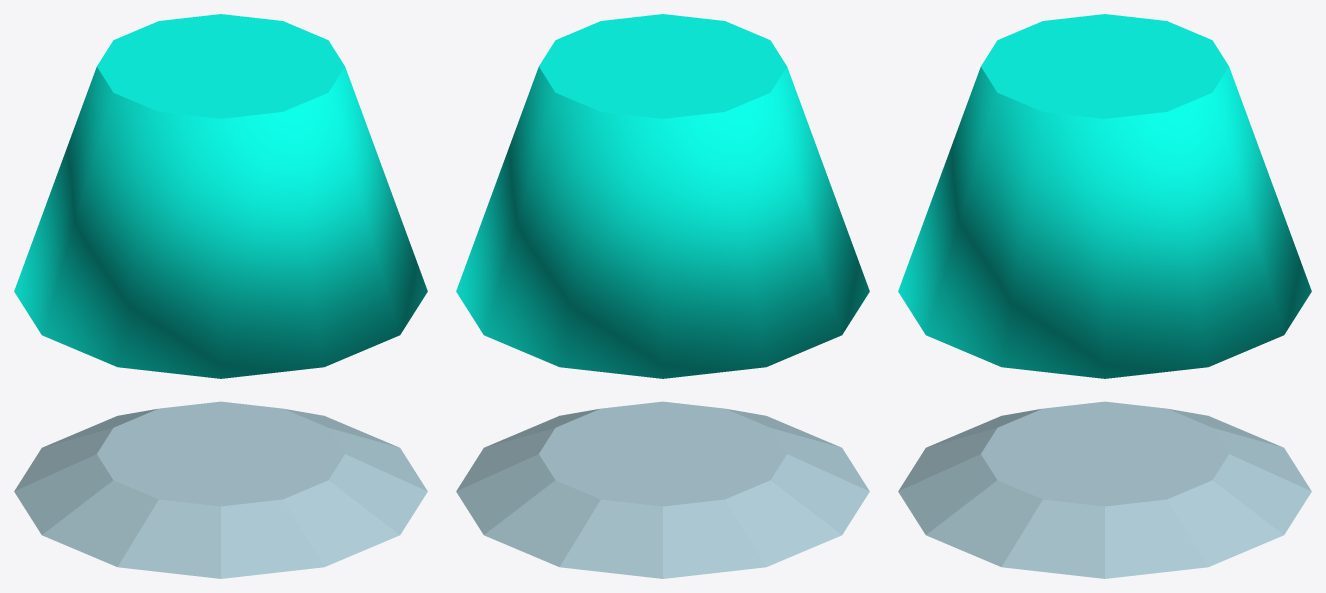
The model's file is lamp-08.fbx.
3 renders of one model, left to right at view 1: azimuth 30°, elevation 25°; view 2: azimuth 150°, elevation 25°; view 3: azimuth 270°, elevation 25°, orthographic.
Parts seen in each view (by area): view 1: lamp-08-lamp, lamp-08; view 2: lamp-08-lamp, lamp-08; view 3: lamp-08-lamp, lamp-08.
Part boxes in pixels (box(x1,y1,x2,y2)): lamp-08-lamp: box(14, 14, 427, 378); lamp-08: box(14, 401, 427, 578); lamp-08-lamp: box(456, 14, 869, 378); lamp-08: box(456, 401, 869, 578); lamp-08-lamp: box(898, 14, 1311, 378); lamp-08: box(898, 401, 1311, 578).
Size of the model in its own units: 30 by 34 by 30.
